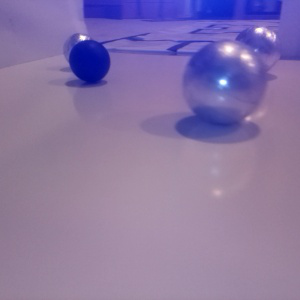alive_ball: (180, 39, 267, 125), (233, 25, 281, 74), (63, 33, 95, 66)
dead_ball: (69, 39, 111, 83)
